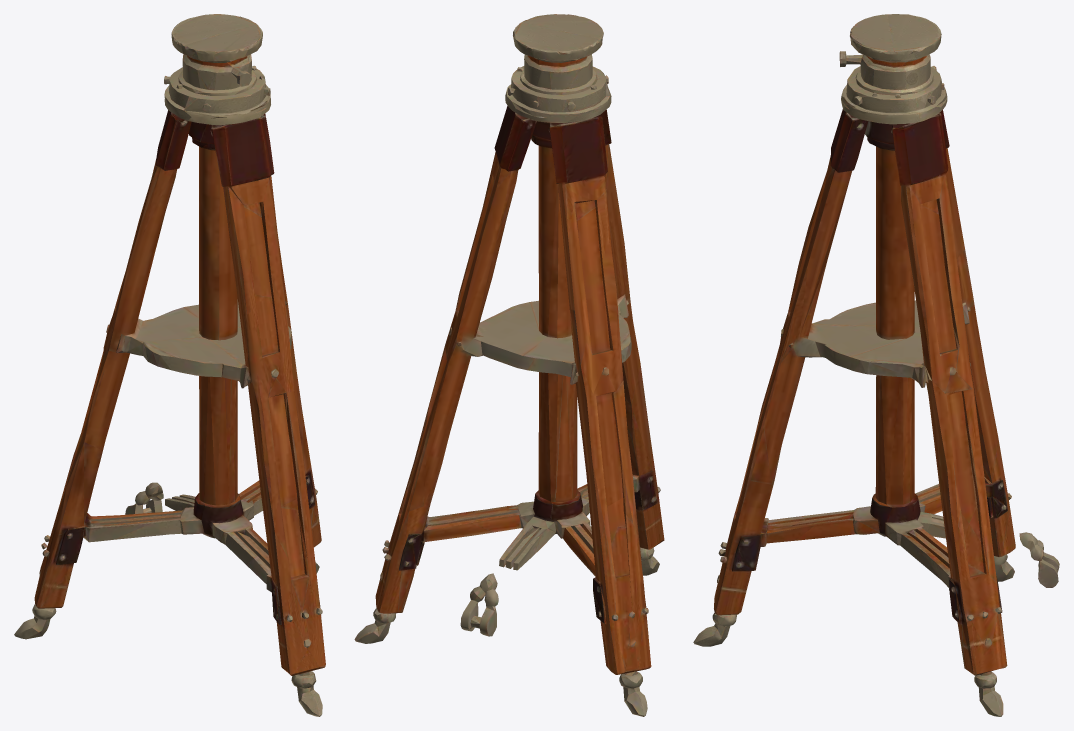
The model's file is telescope-tripod.glb.
3 renders of one model, left to right at view 1: azimuth 30°, elevation 25°; view 2: azimuth 150°, elevation 25°; view 3: azimuth 270°, elevation 25°, orthographic.
Bounding box in the file's own units: 0.9698 × 1.9 × 1.03.
1 material, 1 textured.
